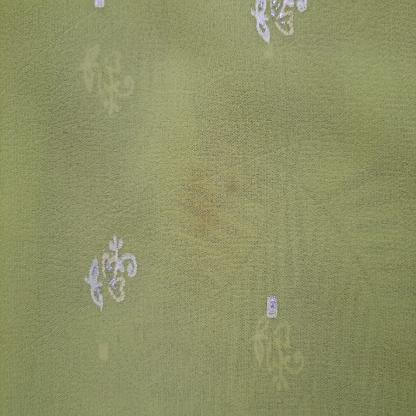spot: (176, 167, 247, 252)
